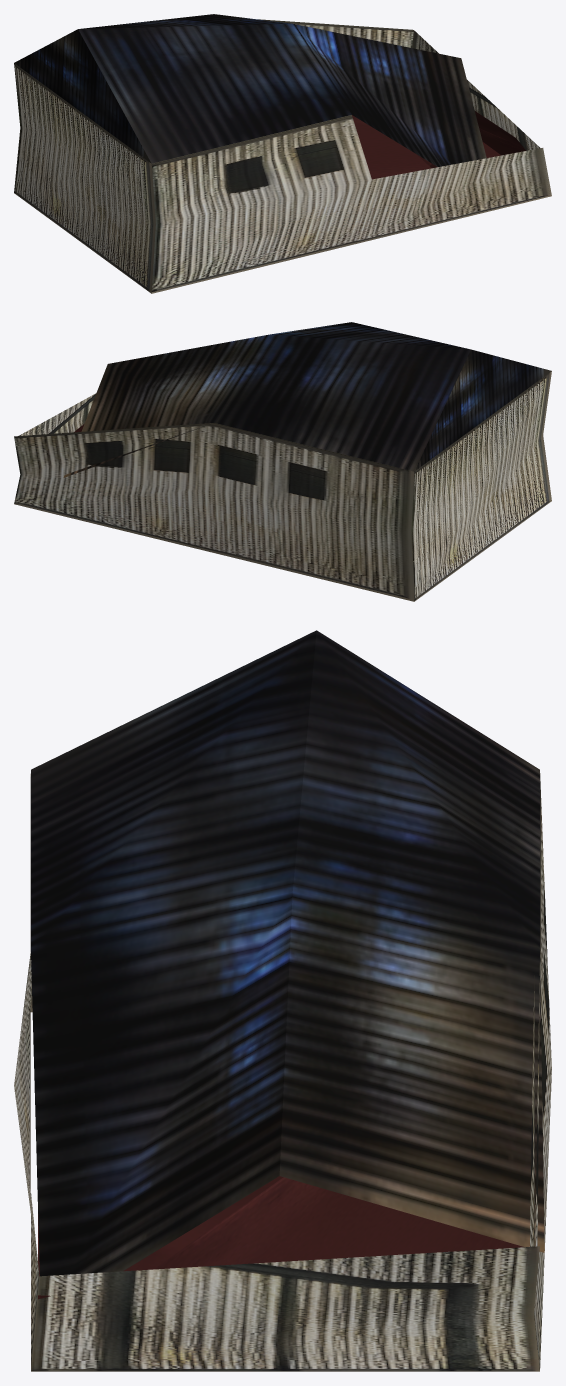
File: bighangerburn2.gltf
3 renders of one model, top to bottom at view 1: azimuth 30°, elevation 25°; view 2: azimuth 150°, elevation 25°; view 3: azimuth 270°, elevation 25°, orthographic. The views are drawn at different scales.
Visible parts, largest first — view 1: bighangerburn2_atomic0; view 2: bighangerburn2_atomic0; view 3: bighangerburn2_atomic0.
Boxes of the visible parts, x1=… form: bighangerburn2_atomic0: x1=14, y1=14, x2=551, y2=293; bighangerburn2_atomic0: x1=14, y1=322, x2=551, y2=601; bighangerburn2_atomic0: x1=14, y1=630, x2=551, y2=1371.
Bounding box in the file's own units: 81.24 × 40.2 × 51.13.
3 materials, 3 textured.
